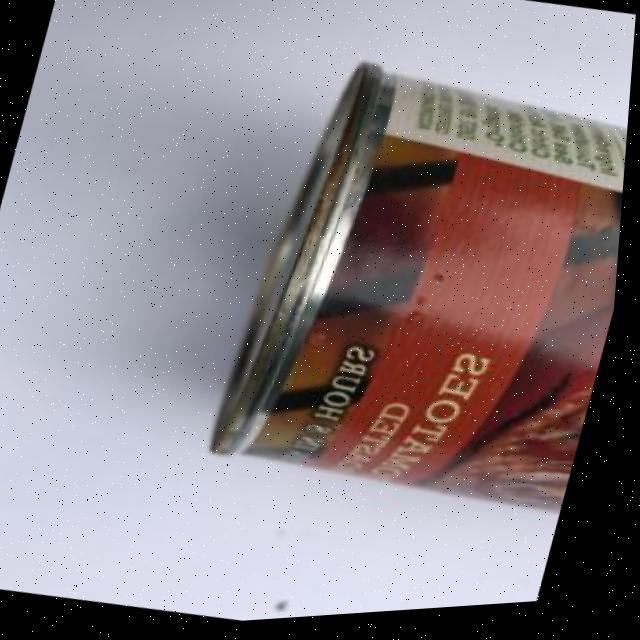metal: (186, 31, 636, 551)
